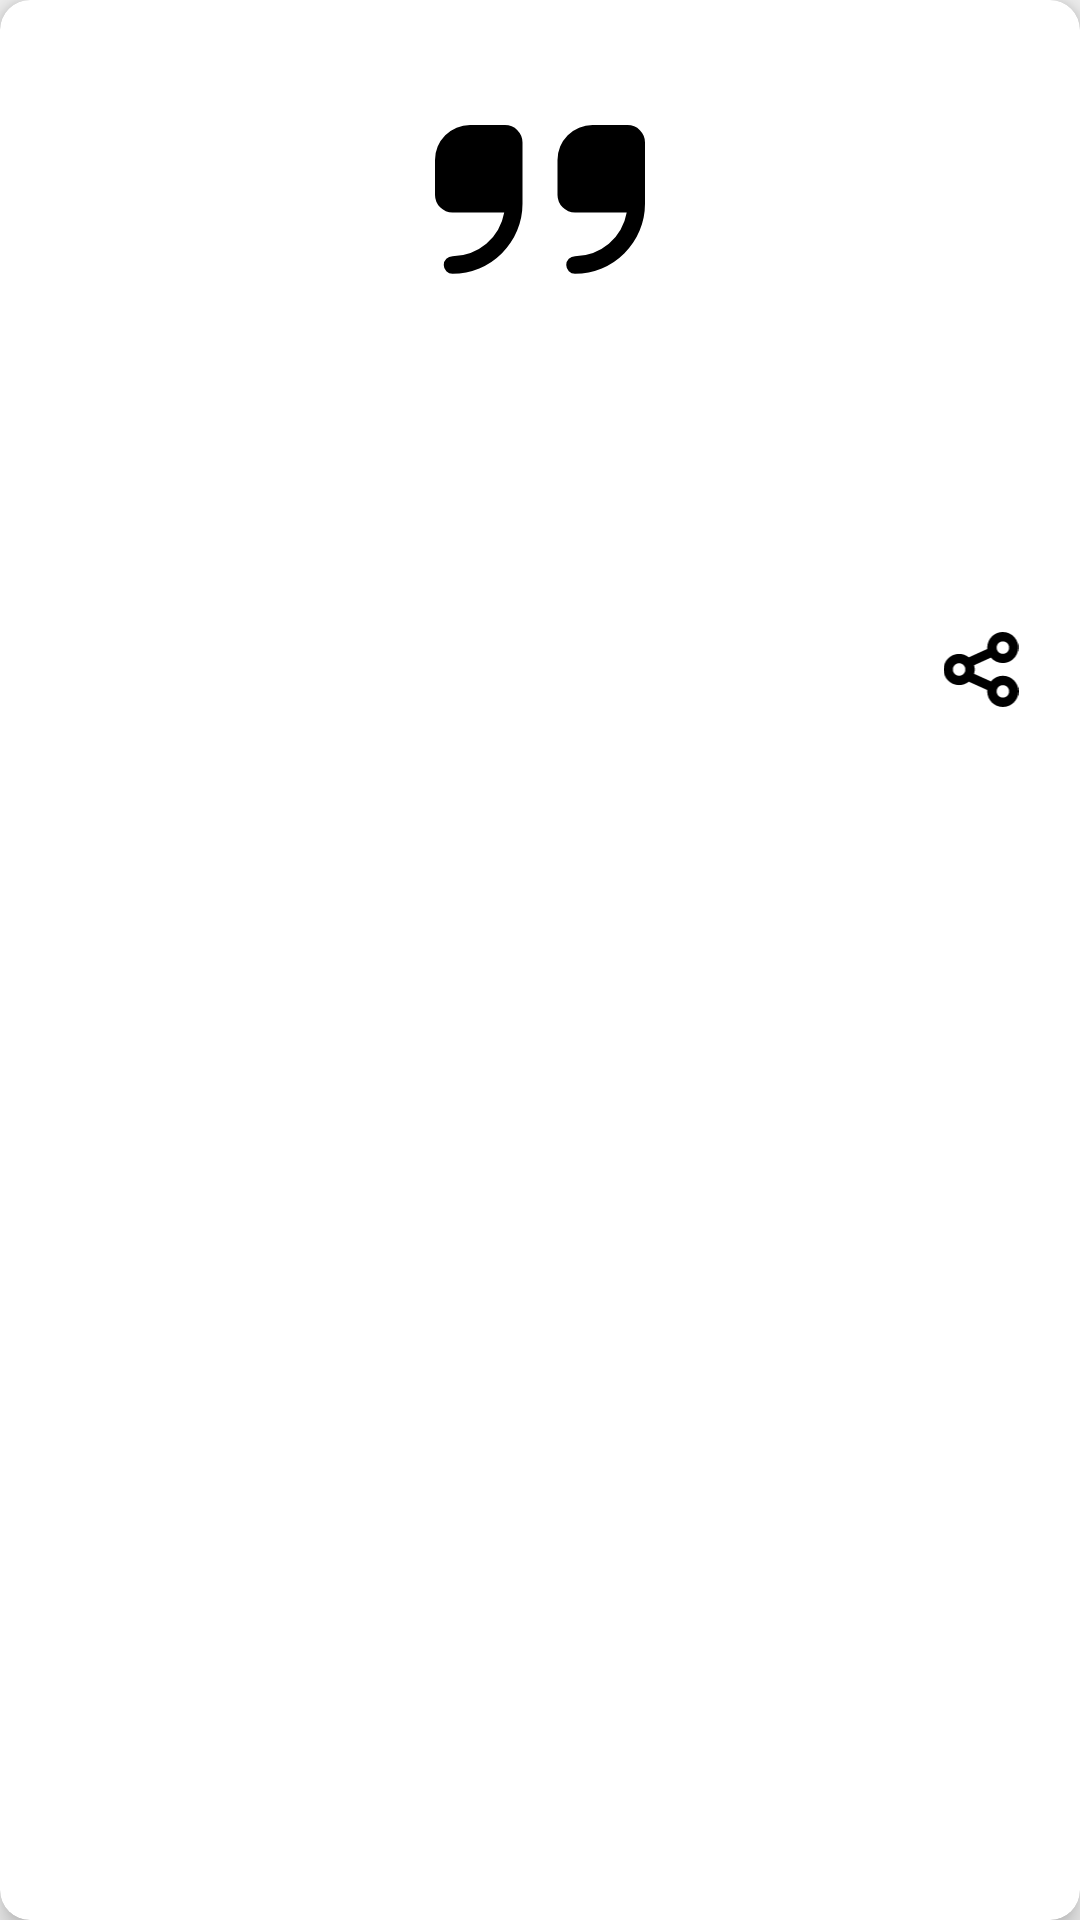

Icon bounding boxes for this 1080*1920 phone screenshot, format (x1, y1, x2, y2):
quote right: (435, 125, 645, 274)
share: (944, 632, 1019, 707)
